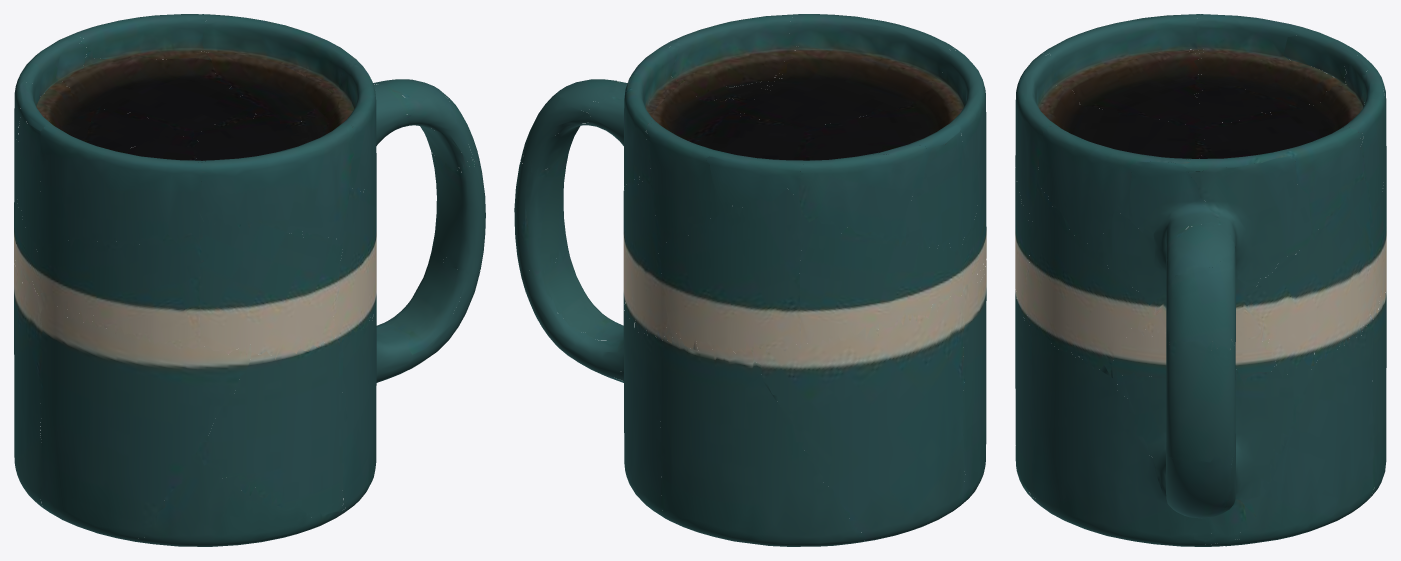
File: caneca.glb
The picture shows the model from 3 angles, left to right: view 1: azimuth 30°, elevation 25°; view 2: azimuth 150°, elevation 25°; view 3: azimuth 270°, elevation 25°; orthographic projection.
Parts seen in each view (by area): view 1: tripo_node_bcaa9dee-a723-44a5-938c-e618f18d88d6; view 2: tripo_node_bcaa9dee-a723-44a5-938c-e618f18d88d6; view 3: tripo_node_bcaa9dee-a723-44a5-938c-e618f18d88d6.
Part boxes in pixels (x1,y1,x2,y2): tripo_node_bcaa9dee-a723-44a5-938c-e618f18d88d6: (14,14,485,546); tripo_node_bcaa9dee-a723-44a5-938c-e618f18d88d6: (514,14,986,546); tripo_node_bcaa9dee-a723-44a5-938c-e618f18d88d6: (1015,14,1386,546).
Size of the model in its own units: 0.1108 by 0.093 by 0.0809.
Materials: 1 (1 with a texture image).
